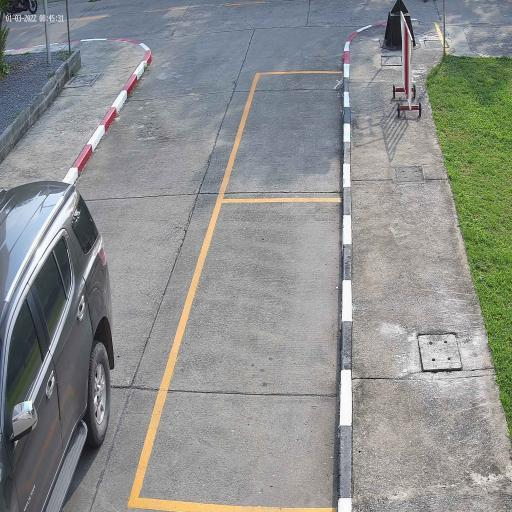car: (0, 183, 113, 511)
